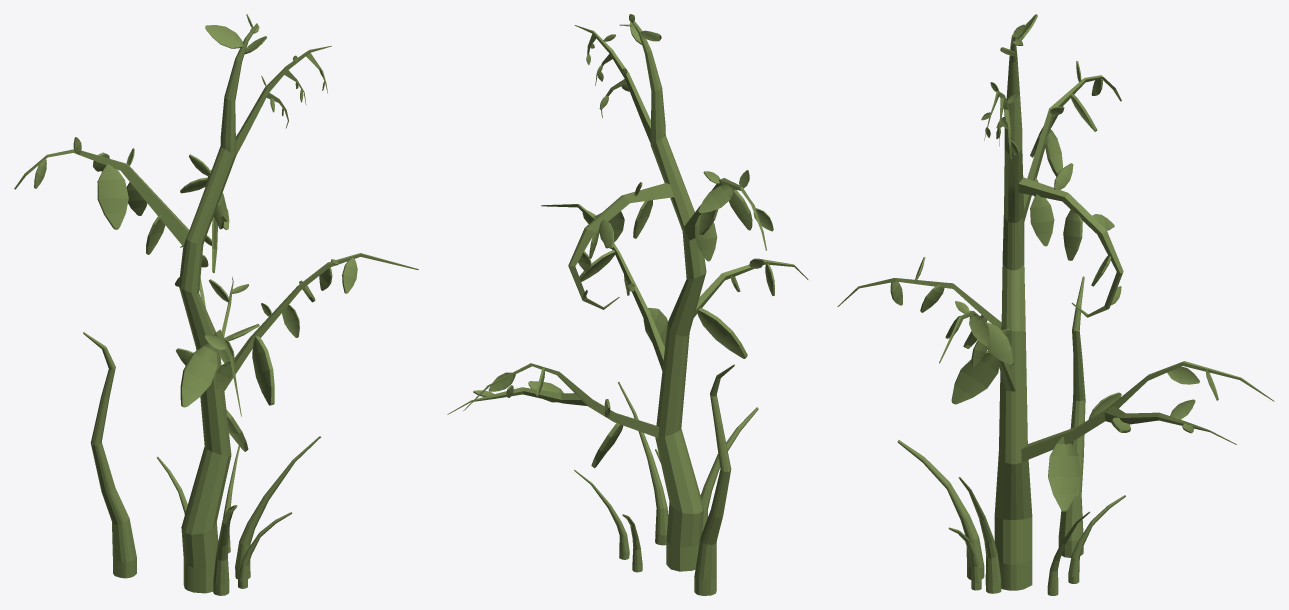
File: grande.fbx
3 renders of one model, left to right at view 1: azimuth 30°, elevation 25°; view 2: azimuth 150°, elevation 25°; view 3: azimuth 270°, elevation 25°, orthographic. The views are drawn at different scales.
Visible parts, largest first — view 1: pCube57; view 2: pCube57; view 3: pCube57.
Part boxes in pixels (<box>): pCube57: <box>14,14,418,595</box>; pCube57: <box>447,14,808,595</box>; pCube57: <box>837,14,1274,595</box>.
Size of the model in its own units: 19.01 by 31.72 by 21.52.
